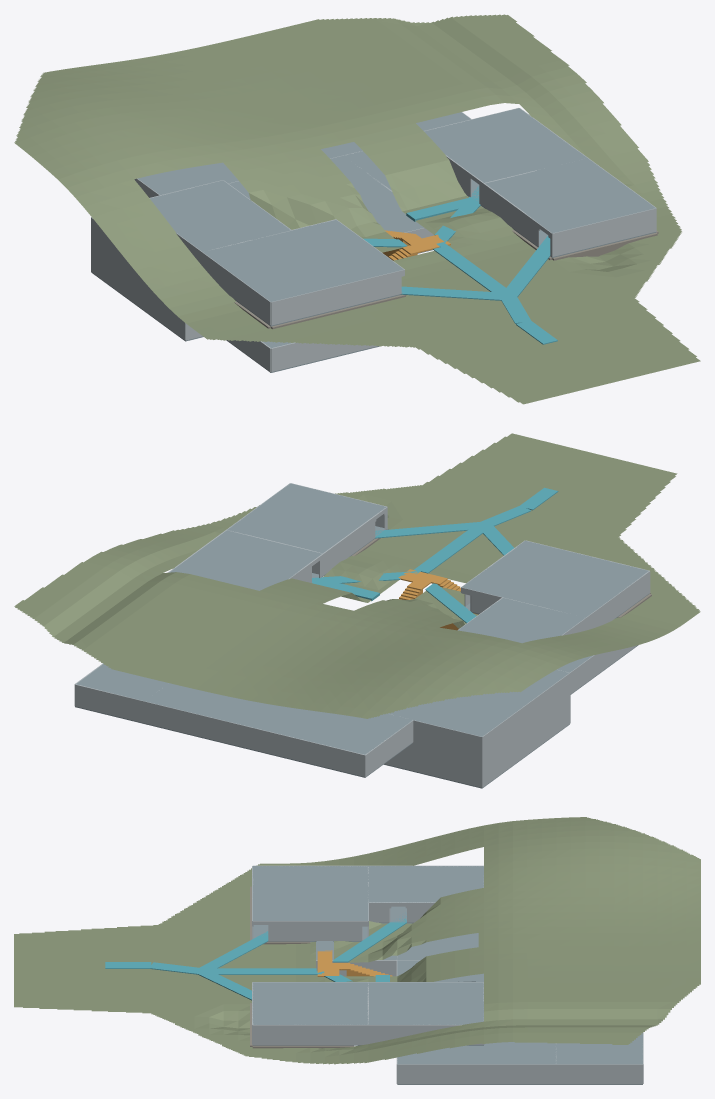
The model's file is cut-terrain.glb.
The picture shows the model from 3 angles, top to bottom: view 1: azimuth 30°, elevation 25°; view 2: azimuth 150°, elevation 25°; view 3: azimuth 270°, elevation 25°; orthographic projection. The views are drawn at different scales.
Parts seen in each view (by area): view 1: Saved editor circulation terrain WLD-05, Ceiling cap shack, Ceiling cap assay, Ceiling cap wash, Ceiling cap stores, Flat route shell Wall shack S, Wall lower W, Wall assay S, Ceiling cap cross, Wall vent S, Wall shack W, Flat route shell Wall assay W (+8 smaller); view 2: Saved editor circulation terrain WLD-05, Ceiling cap shack, Ceiling cap cross, Ceiling cap assay, Ceiling cap wash, Wall cross N, Ceiling cap ore-west, Ceiling cap stores, Wall lower W, Wall lower N, Wall ore-west W, Ceiling cap lift (+10 smaller); view 3: Saved editor circulation terrain WLD-05, Ceiling cap shack, Ceiling cap assay, Ceiling cap wash, Ceiling cap stores, Wall ore-east E, Ceiling cap ore-east, Wall assay E, Flat route shell Wall shack E, Ceiling cap lift, Wall lift E, Ceiling cap ore-west (+7 smaller).
Boxes of the visible parts, x1,y1,x2,y2 form: Saved editor circulation terrain WLD-05: (14, 14, 700, 404); Ceiling cap shack: (203, 220, 403, 301); Ceiling cap assay: (485, 158, 655, 233); Ceiling cap wash: (424, 108, 586, 182); Ceiling cap stores: (150, 180, 290, 251); Flat route shell Wall shack S: (271, 269, 404, 325); Wall lower W: (91, 241, 185, 340); Wall assay S: (552, 208, 656, 256); Ceiling cap cross: (137, 142, 362, 195); Wall vent S: (271, 342, 376, 371); Wall shack W: (202, 252, 270, 325); Flat route shell Wall assay W: (483, 183, 540, 246); Saved editor circulation terrain WLD-05: (14, 433, 700, 718); Ceiling cap shack: (462, 540, 648, 617); Ceiling cap cross: (144, 683, 412, 754); Ceiling cap assay: (227, 483, 386, 553); Ceiling cap wash: (169, 530, 322, 590); Wall cross N: (144, 701, 365, 776); Ceiling cap ore-west: (388, 669, 569, 736); Ceiling cap stores: (458, 598, 585, 643); Wall lower W: (482, 694, 570, 787); Wall lower N: (385, 742, 482, 787); Wall ore-west W: (482, 673, 570, 758); Ceiling cap lift: (76, 663, 168, 700); Saved editor circulation terrain WLD-05: (14, 817, 700, 1064); Ceiling cap shack: (252, 866, 368, 920); Ceiling cap assay: (252, 982, 368, 1024); Ceiling cap wash: (368, 982, 483, 1024); Ceiling cap stores: (368, 866, 483, 902); Wall ore-east E: (397, 1064, 556, 1084); Ceiling cap ore-east: (397, 1042, 556, 1064); Wall assay E: (252, 1024, 368, 1044); Flat route shell Wall shack E: (268, 921, 368, 940); Ceiling cap lift: (556, 1033, 642, 1064); Wall lift E: (556, 1064, 642, 1084); Ceiling cap ore-west: (397, 923, 478, 959).
Bounding box in the file's own units: 70 × 17.77 × 95.
